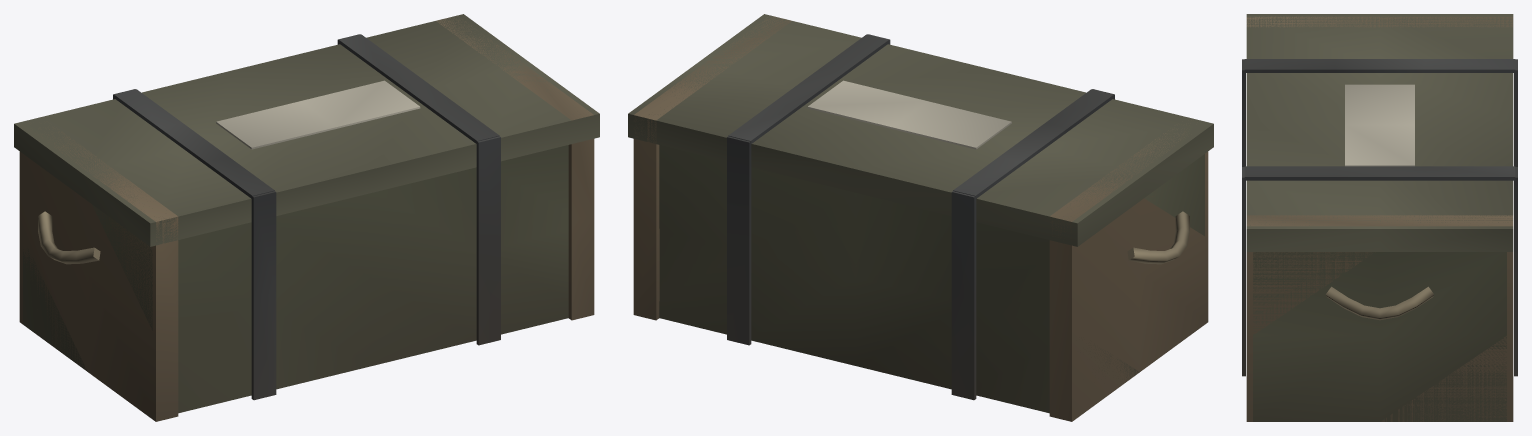
Rendered from m01_prop_ammo_crate_wood_lod0.glb.
3 views of the same model, side by side, from view 1: azimuth 30°, elevation 25°; view 2: azimuth 150°, elevation 25°; view 3: azimuth 270°, elevation 25° (orthographic). The views are drawn at different scales.
Visible parts, largest first — view 1: ammo_crate_wood; view 2: ammo_crate_wood; view 3: ammo_crate_wood.
Boxes of the visible parts, <box> form: ammo_crate_wood: <box>14,14,599,421</box>; ammo_crate_wood: <box>628,14,1213,421</box>; ammo_crate_wood: <box>1242,14,1517,421</box>.
Size of the model in its own units: 0.9219 by 0.3468 by 0.434.
